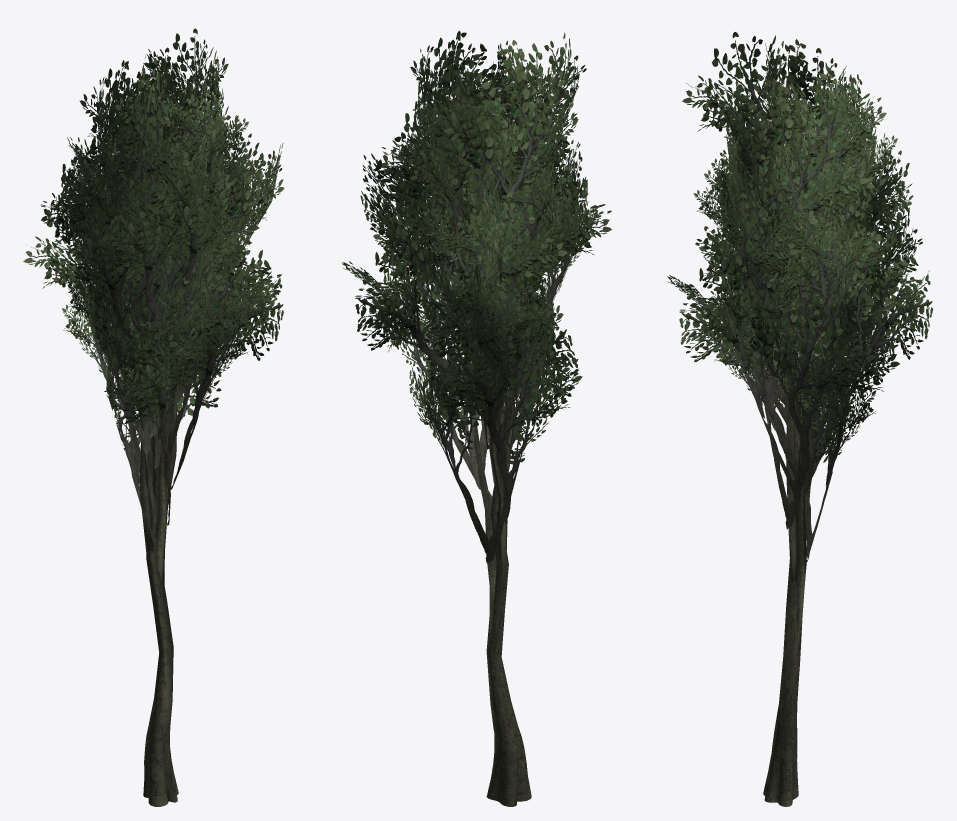
The model's file is Bush02_01.fbx.
3 renders of one model, left to right at view 1: azimuth 30°, elevation 25°; view 2: azimuth 150°, elevation 25°; view 3: azimuth 270°, elevation 25°, orthographic. The views are drawn at different scales.
Visible parts, largest first — view 1: Bush02_01; view 2: Bush02_01; view 3: Bush02_01.
Part boxes in pixels (box(x1,y1,x2,y2)): Bush02_01: box(23, 28, 284, 806); Bush02_01: box(341, 30, 611, 806); Bush02_01: box(667, 32, 933, 806).
Size of what is drawn, in the model's own units: 508 by 1586 by 548.
